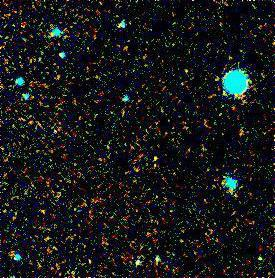star: (142, 143, 172, 173)
